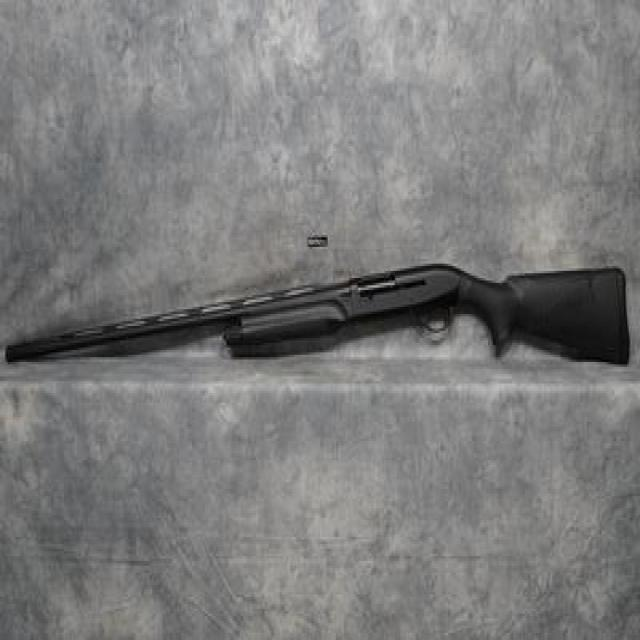ShotGun: (6, 266, 632, 367)
